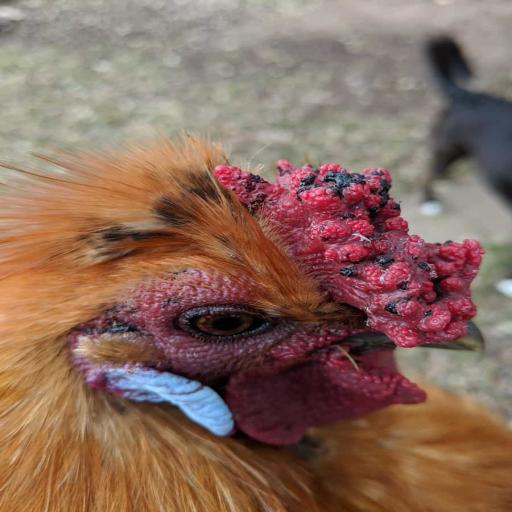disease: (290, 216, 500, 368), (200, 144, 432, 242), (128, 270, 306, 365)
